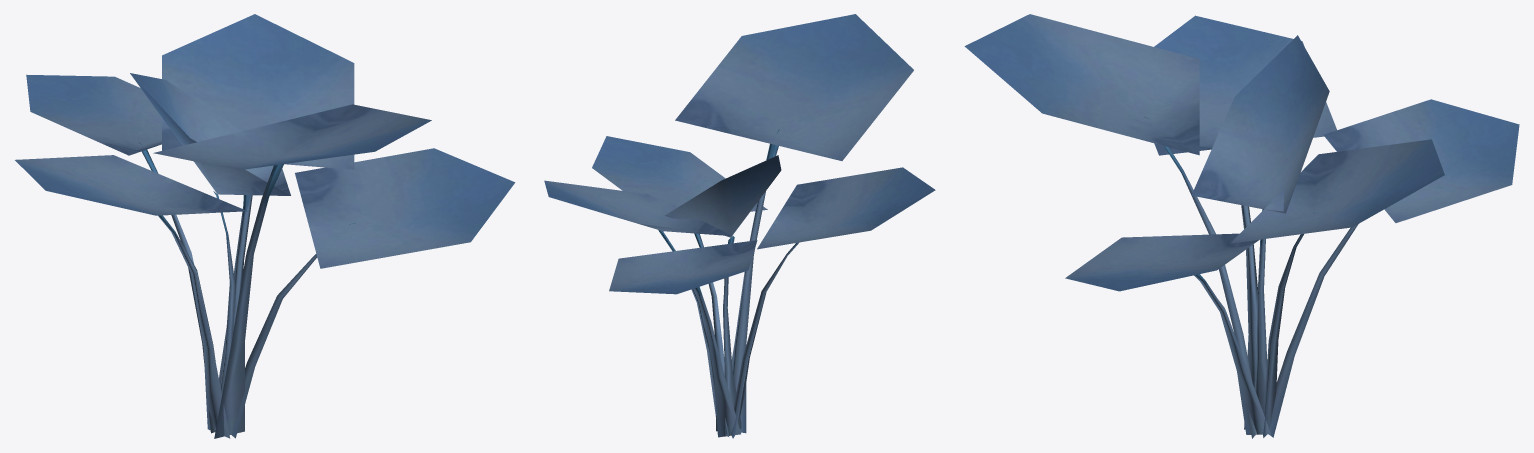
The model's file is Beidaying_zhiwu09.FBX.
The picture shows the model from 3 angles, left to right: view 1: azimuth 30°, elevation 25°; view 2: azimuth 150°, elevation 25°; view 3: azimuth 270°, elevation 25°; orthographic projection. The views are drawn at different scales.
Visible parts, largest first — view 1: Beidaying_zhiwu09; view 2: Beidaying_zhiwu09; view 3: Beidaying_zhiwu09.
Part boxes in pixels (x1,y1,x2,y2): Beidaying_zhiwu09: (15, 14, 515, 438); Beidaying_zhiwu09: (544, 14, 935, 438); Beidaying_zhiwu09: (964, 14, 1519, 438).
Size of the model in its own units: 26.41 by 29.81 by 22.98.
